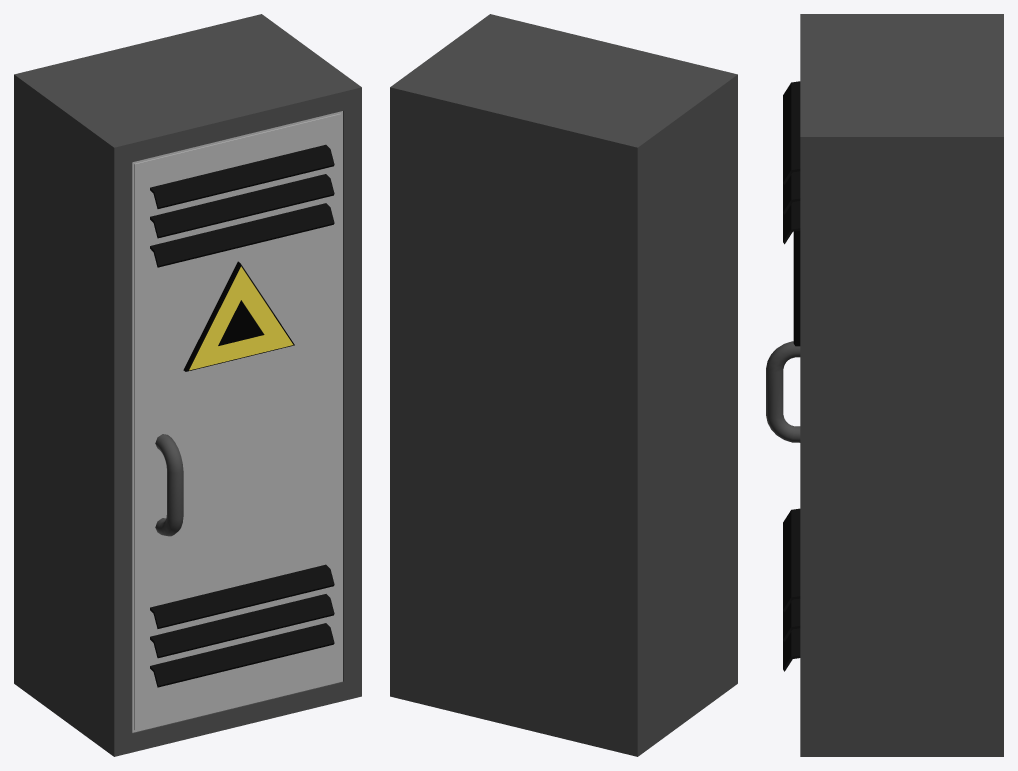
Rendered from Prop_ElectracityCabinet_02.fbx.
3 renders of one model, left to right at view 1: azimuth 30°, elevation 25°; view 2: azimuth 150°, elevation 25°; view 3: azimuth 270°, elevation 25°, orthographic.
Parts seen in each view (by area): view 1: Prop_ElectracityCabinet_02; view 2: Prop_ElectracityCabinet_02; view 3: Prop_ElectracityCabinet_02.
Part boxes in pixels (x1,y1,x2,y2): Prop_ElectracityCabinet_02: [14, 14, 361, 756]; Prop_ElectracityCabinet_02: [390, 14, 737, 756]; Prop_ElectracityCabinet_02: [766, 14, 1003, 756].
Size of the model in its own units: 64 by 150 by 52.31.
